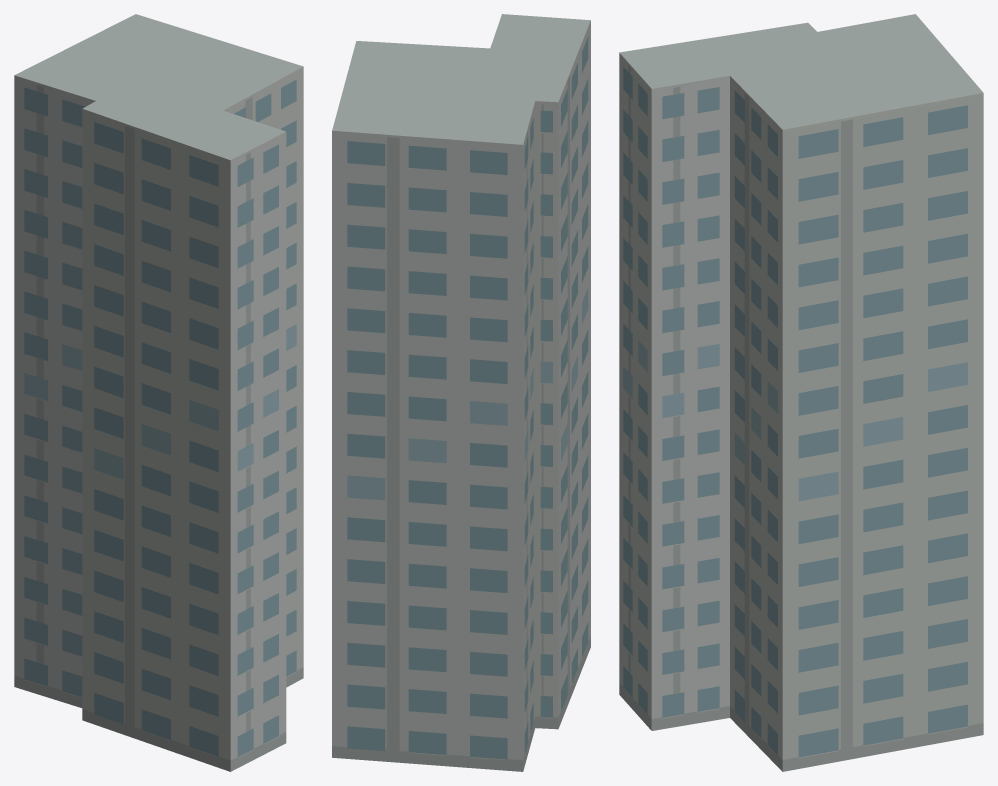
File: residential-ad8b0b07-4680-40f9-81d9-2ad5bf74323d.glb
3 renders of one model, left to right at view 1: azimuth 30°, elevation 25°; view 2: azimuth 150°, elevation 25°; view 3: azimuth 270°, elevation 25°, orthographic. The views are drawn at different scales.
Visible parts, largest first — view 1: residential-ad8b0b07-4680-40f9-81d9-2ad5bf74323d.tmp; view 2: residential-ad8b0b07-4680-40f9-81d9-2ad5bf74323d.tmp; view 3: residential-ad8b0b07-4680-40f9-81d9-2ad5bf74323d.tmp.
Boxes of the visible parts, left/top/right/bottom form: residential-ad8b0b07-4680-40f9-81d9-2ad5bf74323d.tmp: left=14, top=14, right=303, bottom=771; residential-ad8b0b07-4680-40f9-81d9-2ad5bf74323d.tmp: left=332, top=14, right=590, bottom=771; residential-ad8b0b07-4680-40f9-81d9-2ad5bf74323d.tmp: left=619, top=14, right=983, bottom=771.
Size of the model in its own units: 24.77 by 64 by 32.93.
